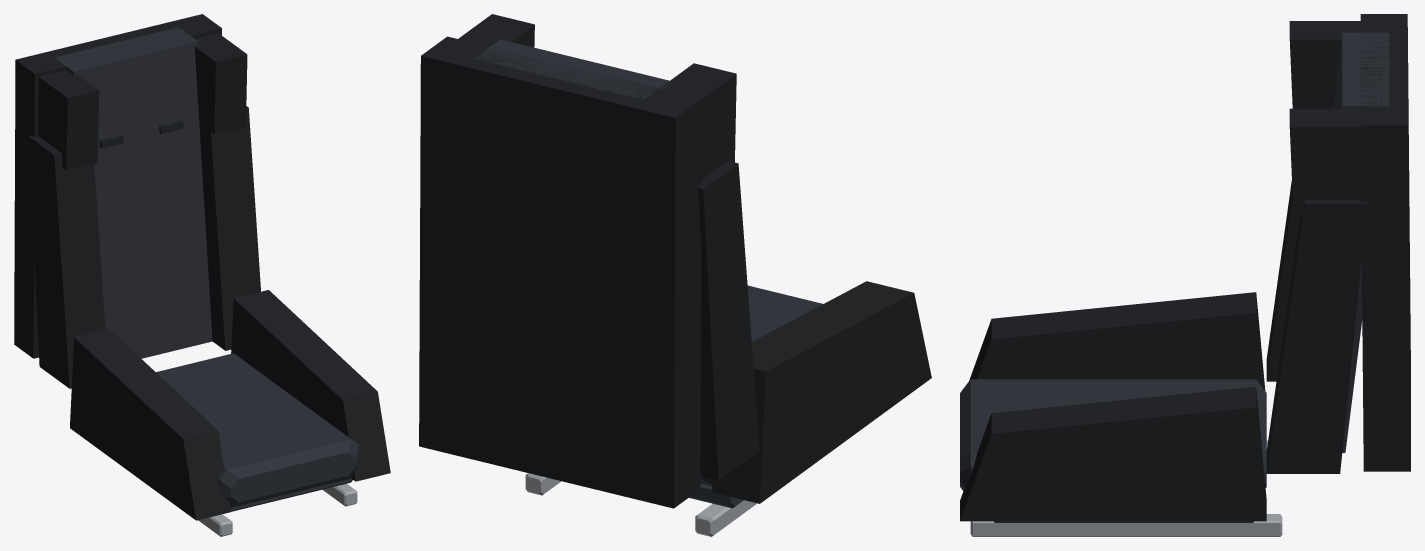
The model's file is ridgeback_4x4.glb.
The picture shows the model from 3 angles, left to right: view 1: azimuth 30°, elevation 25°; view 2: azimuth 150°, elevation 25°; view 3: azimuth 270°, elevation 25°; orthographic projection. The views are drawn at different scales.
Visible parts, largest first — view 1: model; view 2: model; view 3: model.
Part boxes in pixels (<box>): model: <box>14,14,390,536</box>; model: <box>419,14,931,536</box>; model: <box>960,14,1410,536</box>.
Bounding box in the file's own units: 0.5201 × 0.9 × 0.86.
Materials: 4 (1 with a texture image).
